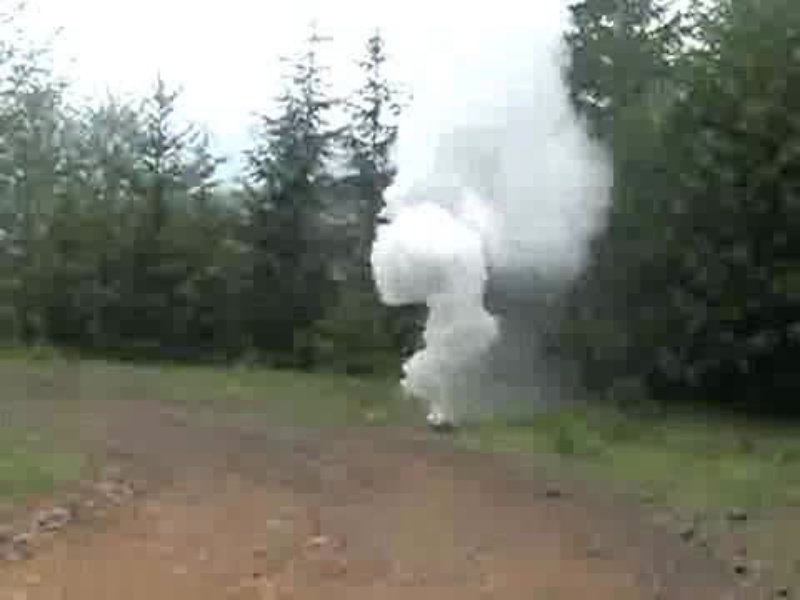smoke: (379, 57, 556, 408)
